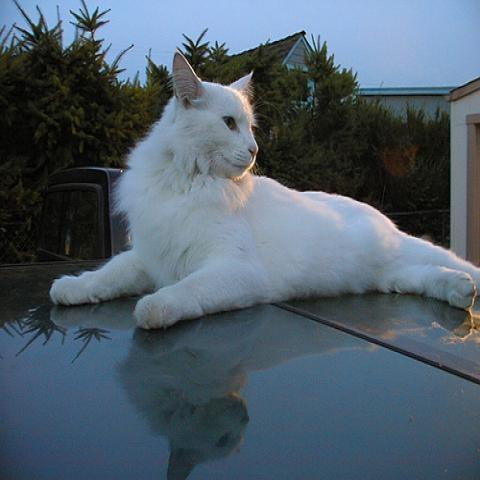car: (0, 253, 479, 479)
truck: (34, 169, 128, 263)
